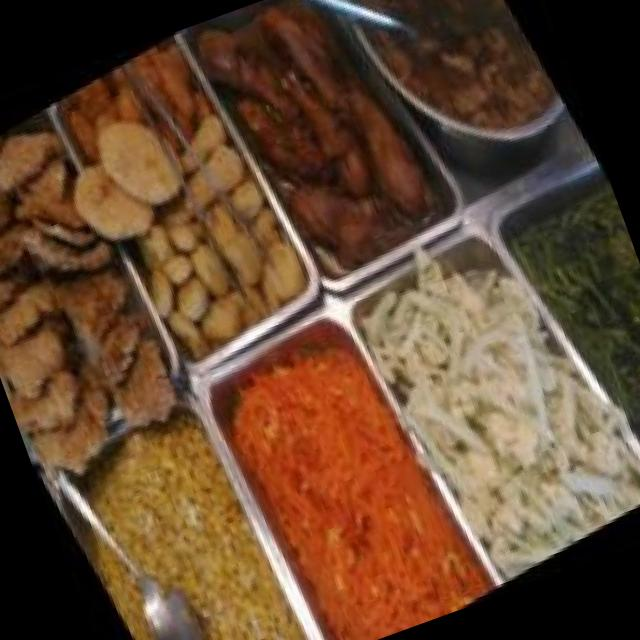carrot_eggs: (214, 318, 490, 640)
chicken_nuggets: (124, 175, 323, 368)
fried_chicken: (0, 102, 199, 478)
triangle_hash_brown: (50, 34, 222, 184)
water_spinach: (509, 182, 640, 501)
